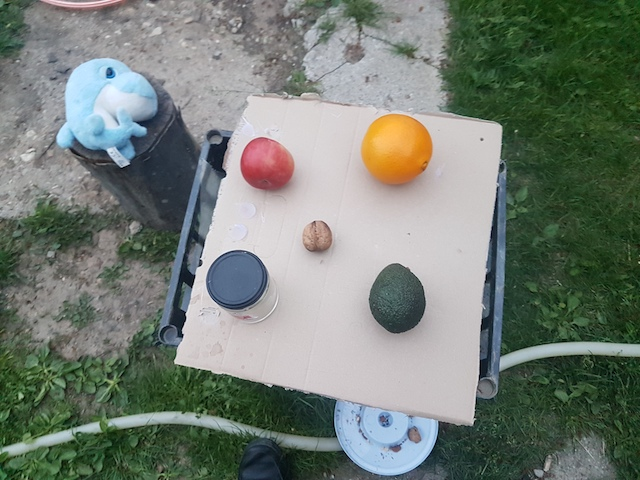apple: (238, 132, 297, 191)
avocado: (367, 260, 424, 337)
nut: (298, 219, 336, 253)
orange: (360, 111, 434, 188)
recipient: (201, 245, 271, 312)
